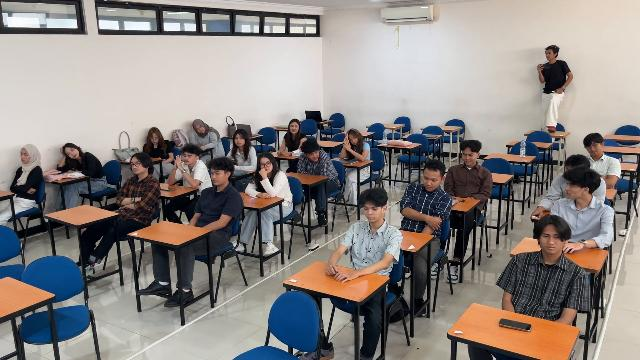bingung: (540, 232, 562, 253), (344, 129, 363, 150), (565, 180, 580, 199), (363, 205, 379, 222), (423, 173, 438, 191), (210, 169, 223, 186), (130, 159, 143, 173), (65, 147, 79, 159), (586, 143, 599, 154), (183, 152, 193, 165), (308, 151, 319, 162), (260, 161, 272, 171), (21, 149, 29, 163), (234, 135, 244, 146), (150, 134, 160, 144), (195, 126, 206, 134)
